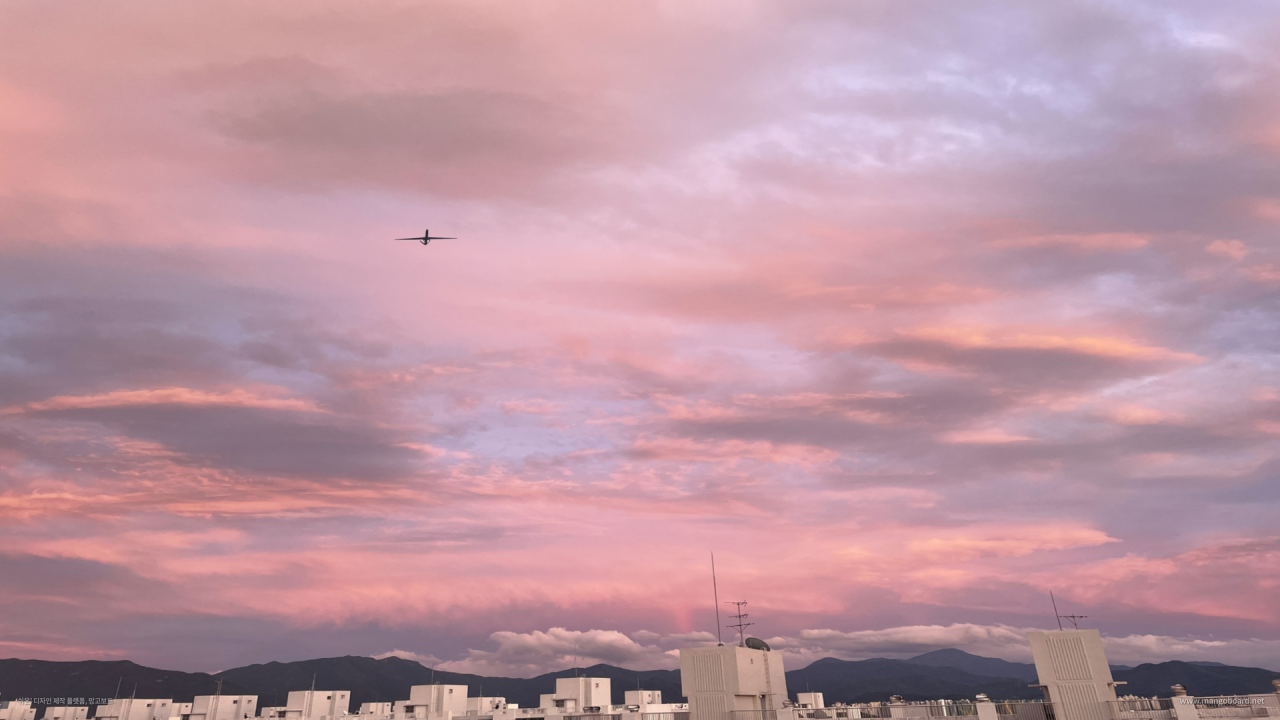military drone: (393, 228, 458, 246)
